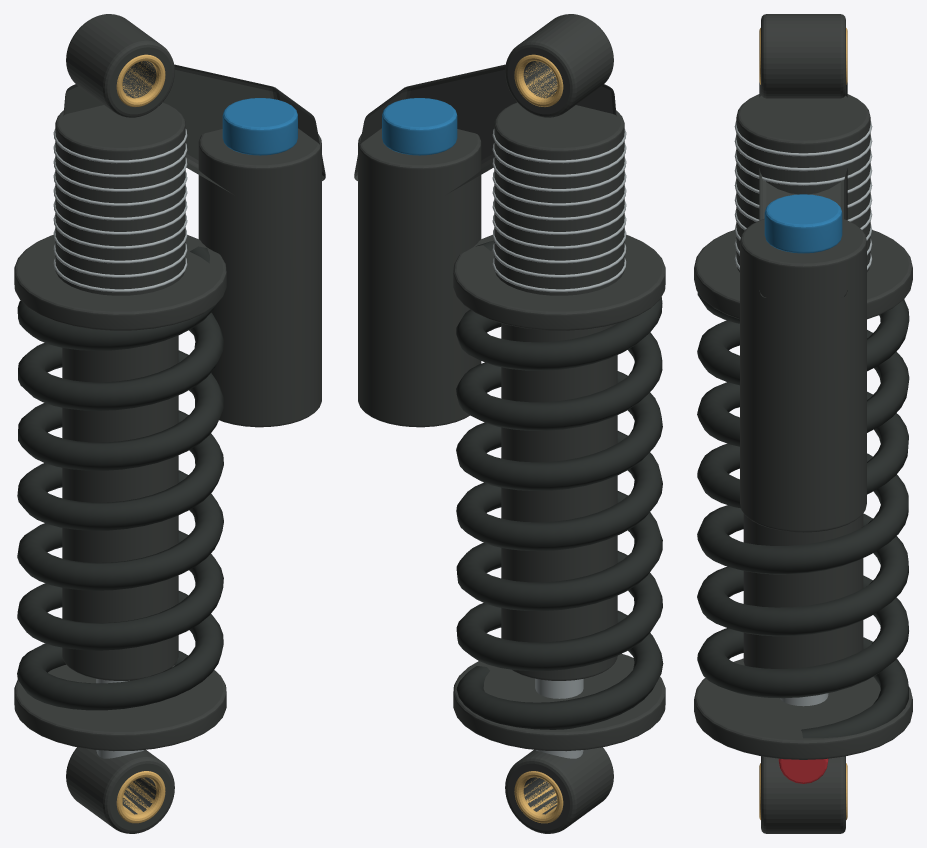
The model's file is marzocchi-bomber-cr--c86ac304.glb.
3 renders of one model, left to right at view 1: azimuth 30°, elevation 25°; view 2: azimuth 150°, elevation 25°; view 3: azimuth 270°, elevation 25°, orthographic. The views are drawn at different scales.
Parts seen in each view (by area): view 1: marzocchi-bomber-cr--c86ac304__link, marzocchi-bomber-cr--c86ac304__coil, marzocchi-bomber-cr--c86ac304__bolts, marzocchi-bomber-cr--c86ac304__adjuster, marzocchi-bomber-cr--c86ac304__stanchions; view 2: marzocchi-bomber-cr--c86ac304__link, marzocchi-bomber-cr--c86ac304__coil, marzocchi-bomber-cr--c86ac304__bolts, marzocchi-bomber-cr--c86ac304__adjuster, marzocchi-bomber-cr--c86ac304__stanchions; view 3: marzocchi-bomber-cr--c86ac304__link, marzocchi-bomber-cr--c86ac304__coil, marzocchi-bomber-cr--c86ac304__adjuster, marzocchi-bomber-cr--c86ac304__bolts, marzocchi-bomber-cr--c86ac304__rebound, marzocchi-bomber-cr--c86ac304__stanchions.
Boxes of the visible parts, x1=… form: marzocchi-bomber-cr--c86ac304__link: x1=14, y1=14, x2=325, y2=833; marzocchi-bomber-cr--c86ac304__coil: x1=17, y1=246, x2=224, y2=710; marzocchi-bomber-cr--c86ac304__bolts: x1=53, y1=129, x2=187, y2=758; marzocchi-bomber-cr--c86ac304__adjuster: x1=222, y1=98, x2=297, y2=155; marzocchi-bomber-cr--c86ac304__stanchions: x1=116, y1=54, x2=165, y2=823; marzocchi-bomber-cr--c86ac304__link: x1=354, y1=14, x2=665, y2=833; marzocchi-bomber-cr--c86ac304__coil: x1=456, y1=240, x2=663, y2=729; marzocchi-bomber-cr--c86ac304__bolts: x1=492, y1=129, x2=626, y2=758; marzocchi-bomber-cr--c86ac304__adjuster: x1=382, y1=98, x2=457, y2=155; marzocchi-bomber-cr--c86ac304__stanchions: x1=514, y1=54, x2=563, y2=823; marzocchi-bomber-cr--c86ac304__link: x1=694, y1=14, x2=912, y2=833; marzocchi-bomber-cr--c86ac304__coil: x1=697, y1=292, x2=909, y2=738; marzocchi-bomber-cr--c86ac304__adjuster: x1=764, y1=194, x2=842, y2=253; marzocchi-bomber-cr--c86ac304__bolts: x1=734, y1=121, x2=872, y2=706; marzocchi-bomber-cr--c86ac304__rebound: x1=778, y1=758, x2=828, y2=783; marzocchi-bomber-cr--c86ac304__stanchions: x1=759, y1=28, x2=847, y2=819.
Size of the model in its own units: 0.096 by 0.254 by 0.062.
